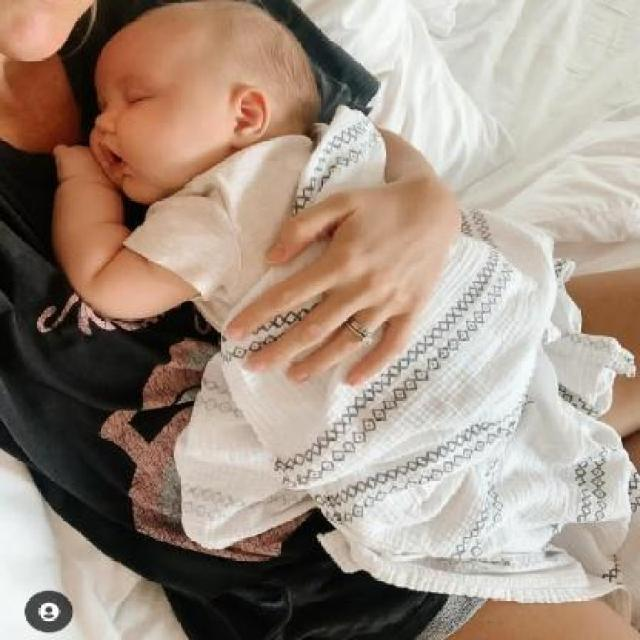baby: (48, 0, 632, 603)
